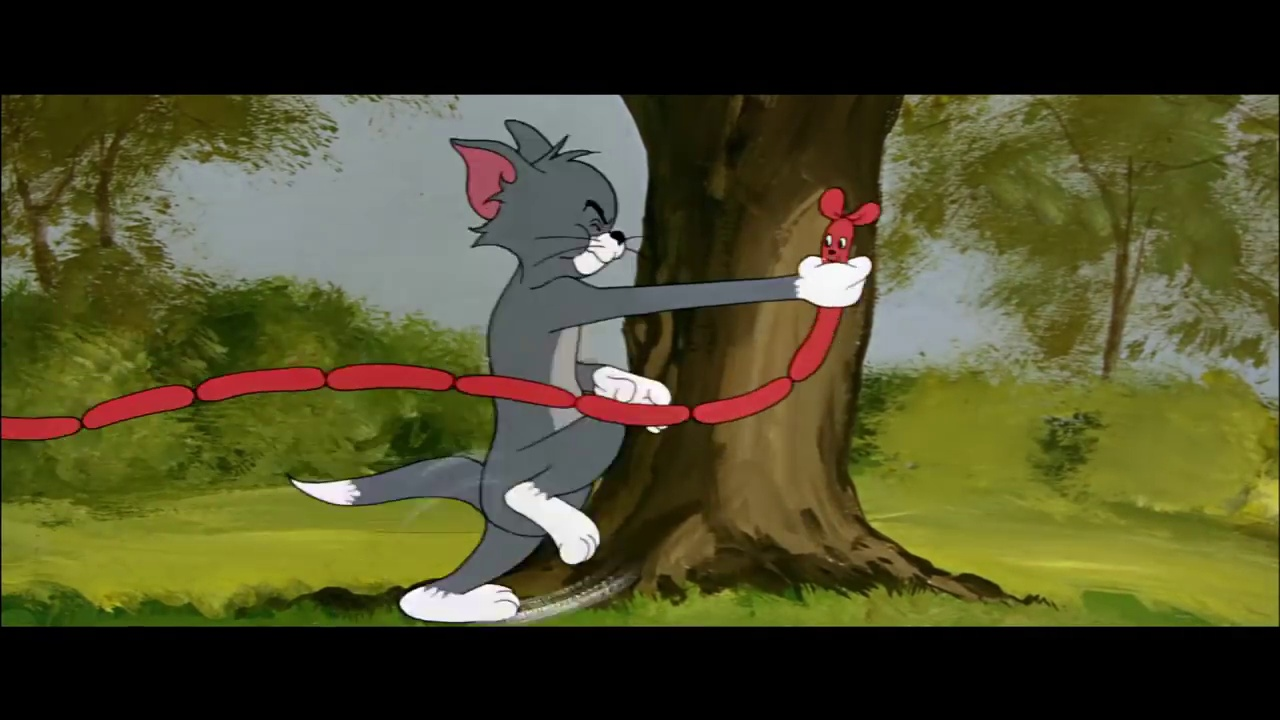tom: (447, 119, 637, 287)
